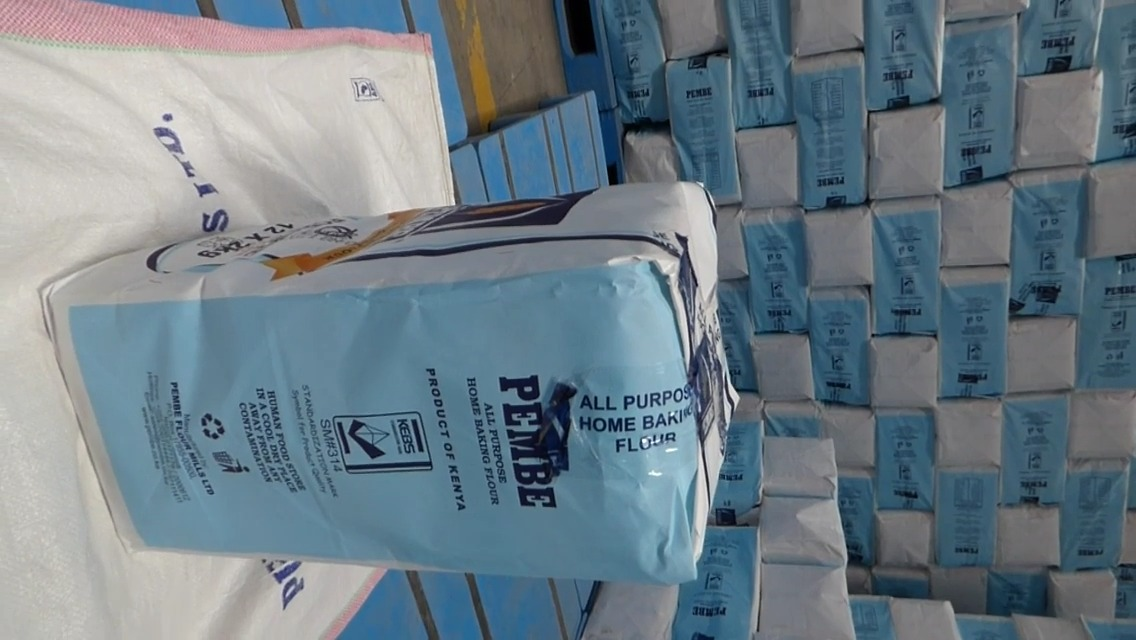wheat_flour_blue_label: (39, 183, 740, 581)
